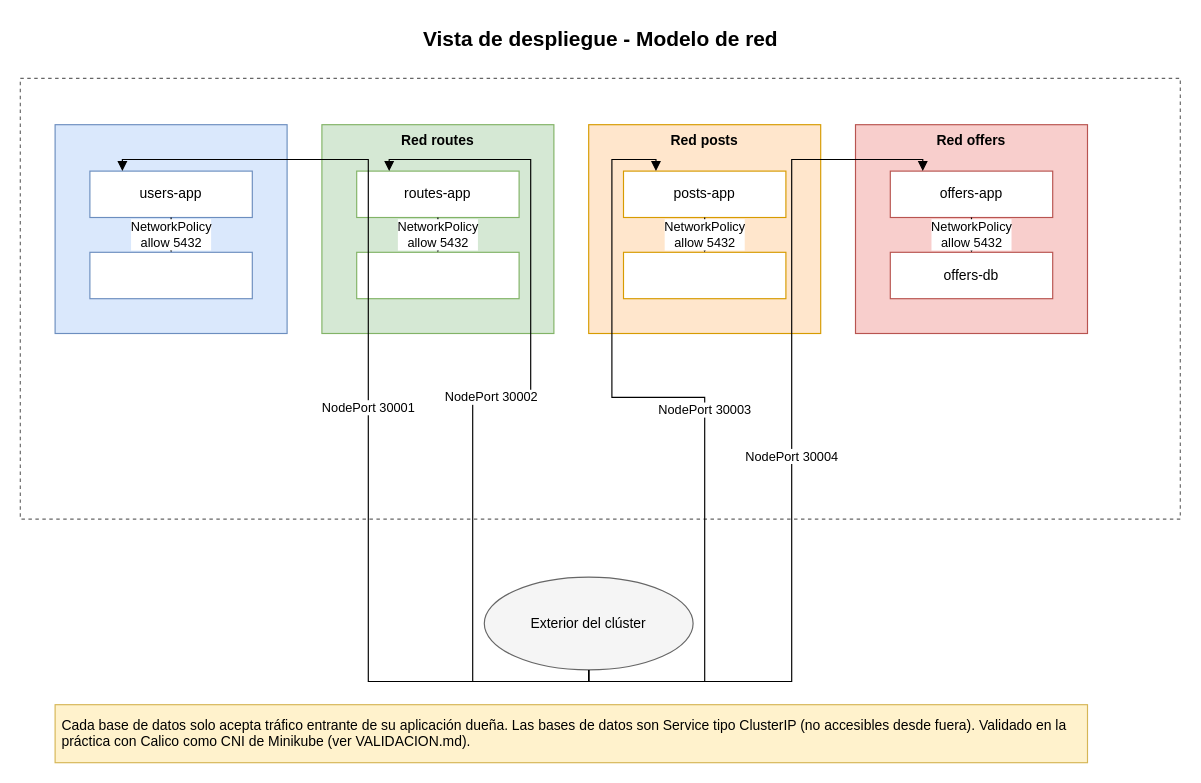
This 1201x783 diagram has some shape labels left out. Each missing label, with the box of its shape:
Namespace: default: (19, 77, 1180, 519)
posts-db: (622, 251, 786, 299)
Red users: (54, 124, 287, 334)
routes-db: (356, 251, 519, 299)
users-db: (89, 251, 252, 299)
